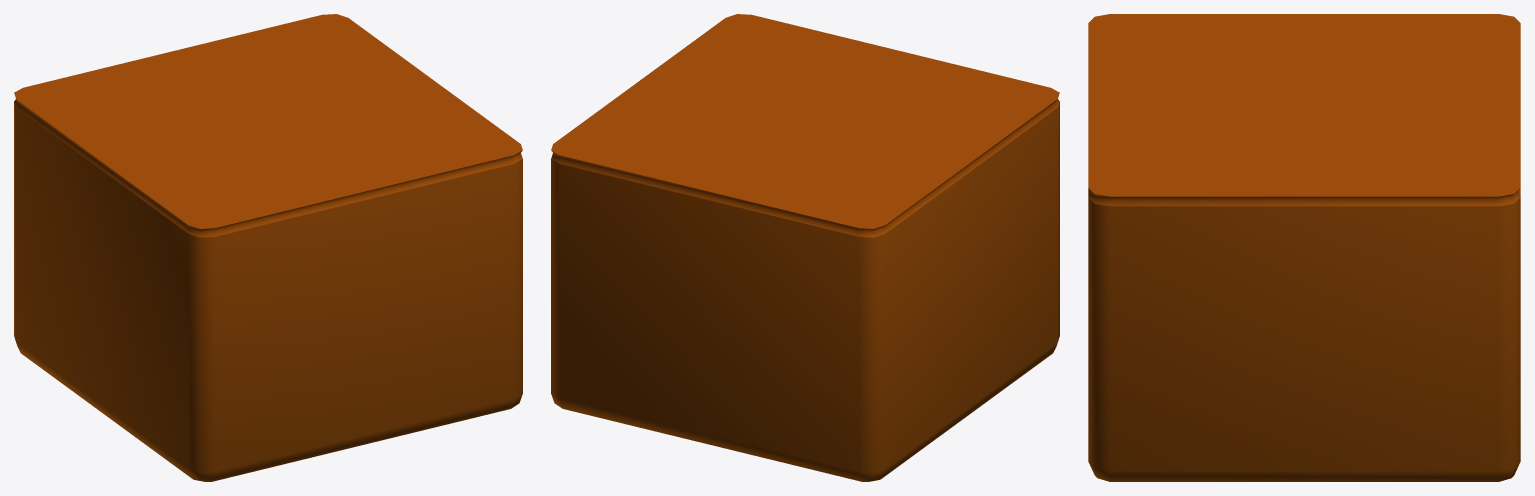
Rendered from 3D_Tile_Socket_Ground_03.glb.
3 views of the same model, side by side, from view 1: azimuth 30°, elevation 25°; view 2: azimuth 150°, elevation 25°; view 3: azimuth 270°, elevation 25° (orthographic). The views are drawn at different scales.
Visible parts, largest first — view 1: 3D_Tile_Socket_Ground_03; view 2: 3D_Tile_Socket_Ground_03; view 3: 3D_Tile_Socket_Ground_03.
Part boxes in pixels (bbox=[...]): 3D_Tile_Socket_Ground_03: bbox=[14, 14, 522, 481]; 3D_Tile_Socket_Ground_03: bbox=[551, 14, 1059, 481]; 3D_Tile_Socket_Ground_03: bbox=[1088, 14, 1520, 481].
Bounding box in the file's own units: 2 × 1.5 × 2.
Materials: 1 (1 with a texture image).
